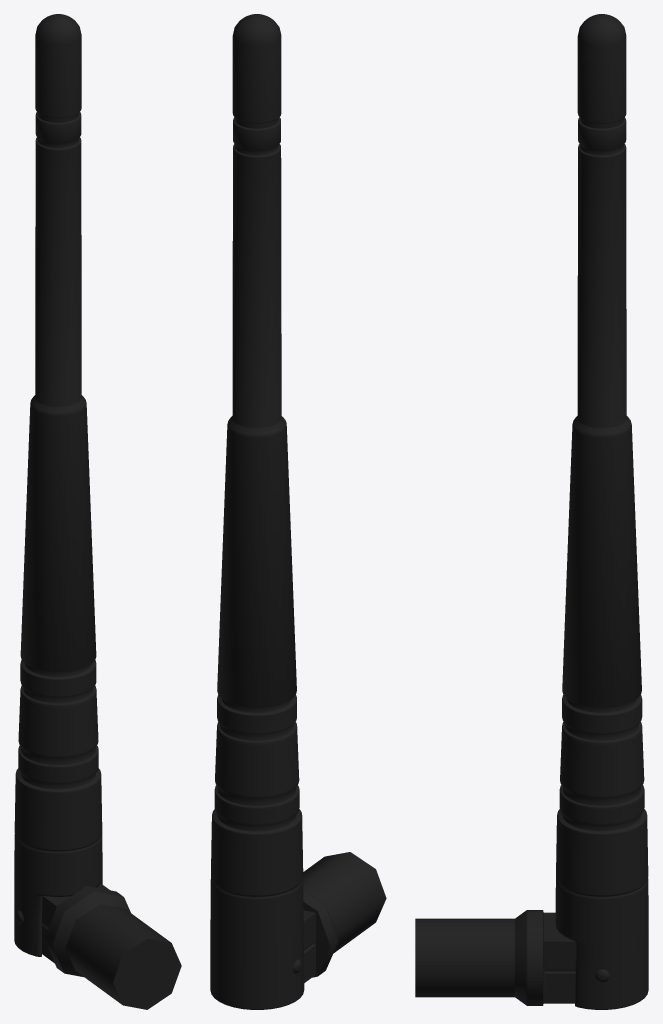
Rendered from ztx1.FBX.
3 views of the same model, side by side, from view 1: azimuth 30°, elevation 25°; view 2: azimuth 150°, elevation 25°; view 3: azimuth 270°, elevation 25° (orthographic). The views are drawn at different scales.
Parts seen in each view (by area): view 1: 对象009; view 2: 对象009; view 3: 对象009.
Part boxes in pixels (bbox=[...]): 对象009: bbox=[14, 14, 181, 1009]; 对象009: bbox=[210, 14, 386, 1009]; 对象009: bbox=[415, 14, 648, 1009].
Size of the model in its own units: 6.1 by 13.9 by 64.88.
